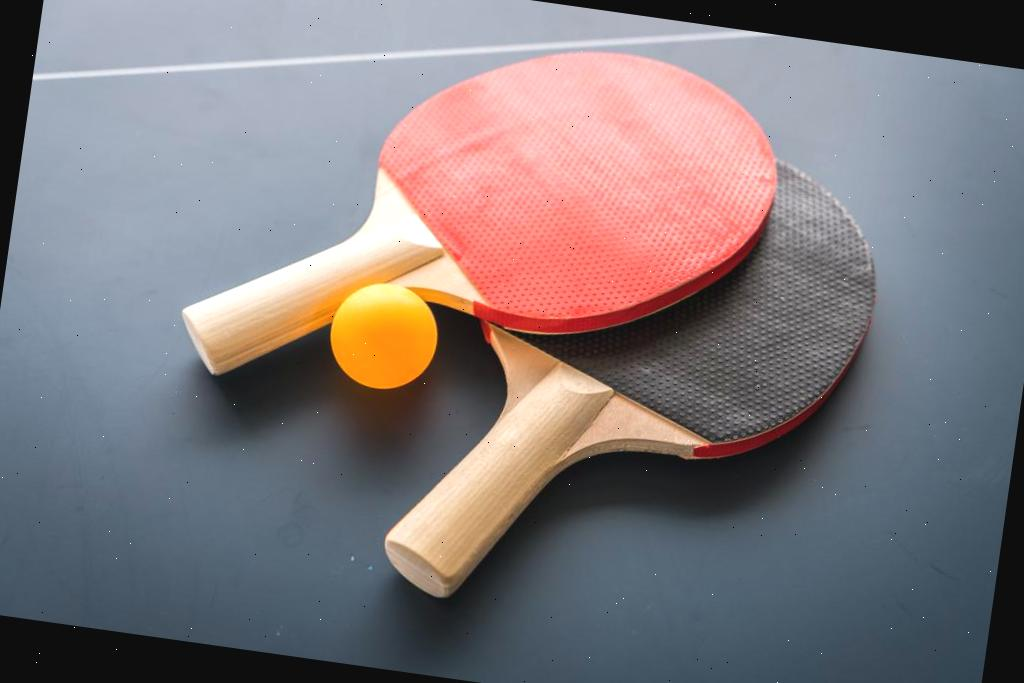ball: (315, 269, 447, 401)
